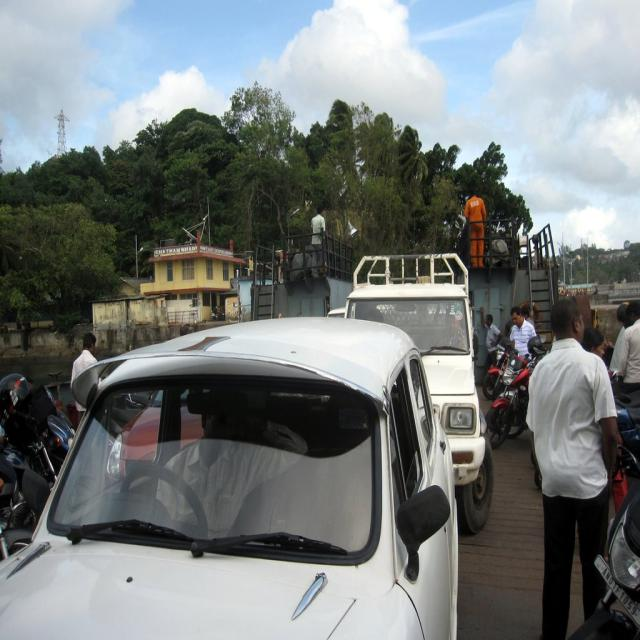car: (20, 309, 465, 634)
